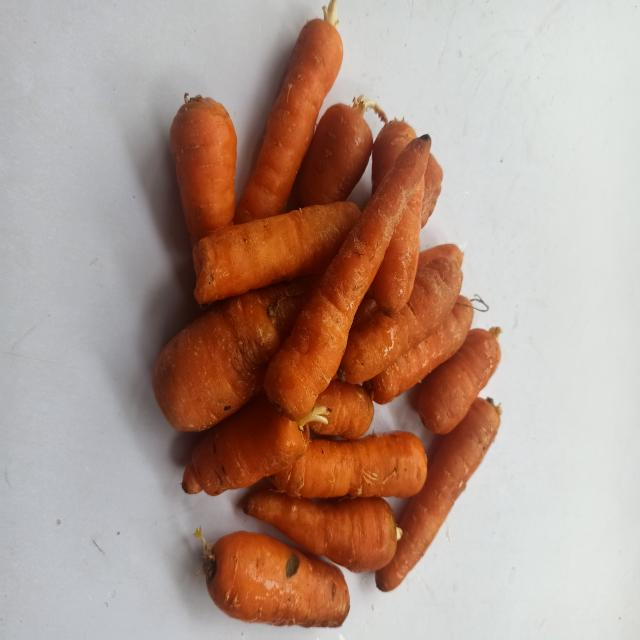Carrot: (264, 133, 432, 421), (152, 275, 319, 431), (376, 398, 501, 592), (234, 18, 343, 223), (192, 201, 361, 304), (340, 245, 463, 383), (206, 532, 350, 628), (182, 393, 309, 496), (243, 490, 400, 573), (270, 431, 427, 498), (170, 92, 236, 246), (418, 328, 501, 434)
